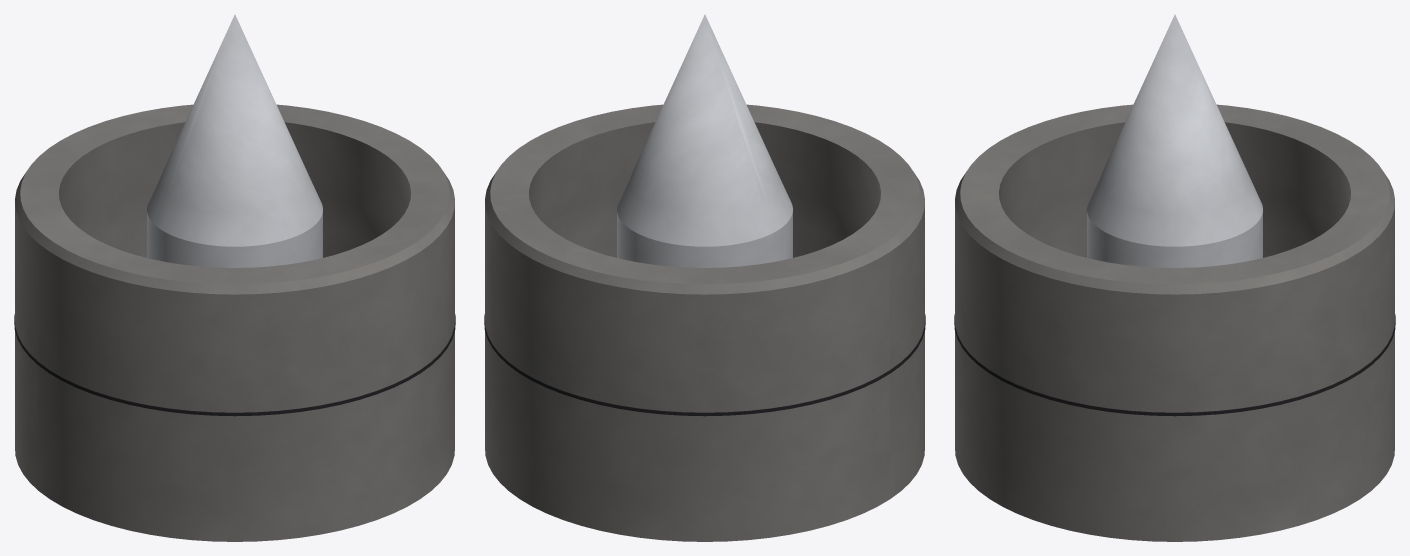
The model's file is ax_aero_32_insc_cone_intake_m.glb.
3 renders of one model, left to right at view 1: azimuth 30°, elevation 25°; view 2: azimuth 150°, elevation 25°; view 3: azimuth 270°, elevation 25°, orthographic.
Visible parts, largest first — view 1: intake_lip, shock_cone, frame; view 2: intake_lip, shock_cone, frame; view 3: intake_lip, shock_cone, frame.
Part boxes in pixels (left/top/right/bottom): intake_lip: left=15, top=104, right=454, bottom=541; shock_cone: left=147, top=14, right=322, bottom=267; frame: left=14, top=314, right=455, bottom=416; intake_lip: left=485, top=104, right=924, bottom=541; shock_cone: left=617, top=14, right=792, bottom=267; frame: left=484, top=314, right=925, bottom=416; intake_lip: left=955, top=104, right=1394, bottom=541; shock_cone: left=1087, top=14, right=1262, bottom=267; frame: left=954, top=314, right=1395, bottom=416.
Bounding box in the file's own units: 2.51 × 2.72 × 2.51.
3 materials, 2 textured.
